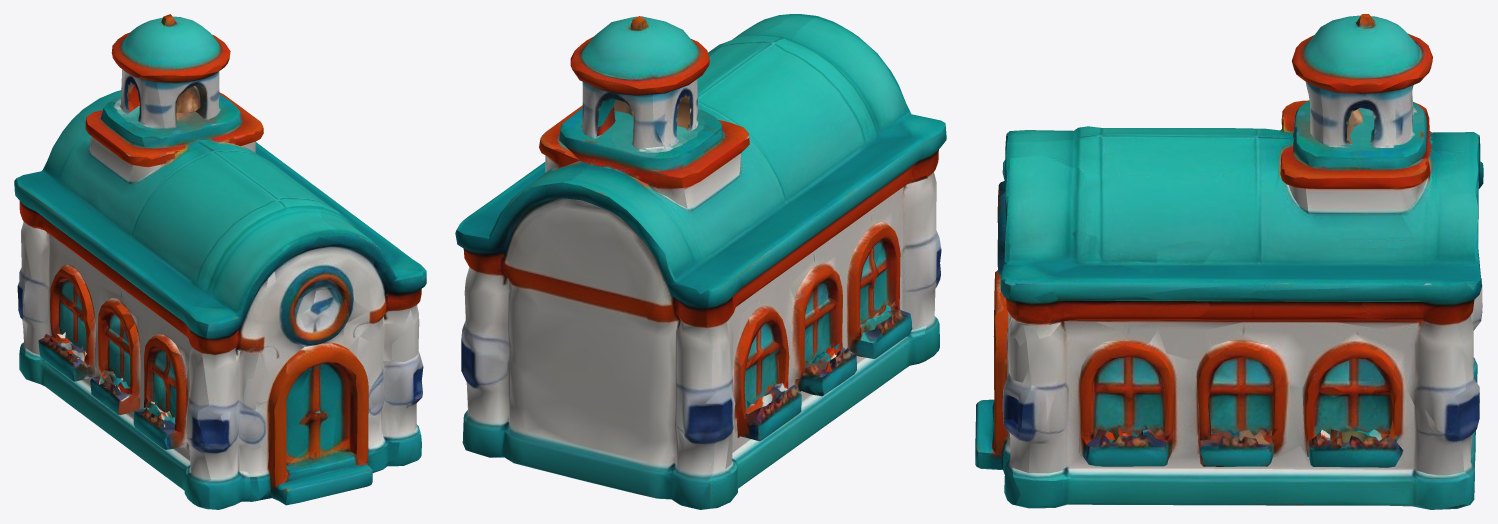
Rendered from school.glb.
3 views of the same model, side by side, from view 1: azimuth 30°, elevation 25°; view 2: azimuth 150°, elevation 25°; view 3: azimuth 270°, elevation 25° (orthographic). The views are drawn at different scales.
Parts seen in each view (by area): view 1: school; view 2: school; view 3: school.
Boxes of the visible parts, bbox=[...] form: school: bbox=[14, 14, 426, 509]; school: bbox=[455, 14, 946, 509]; school: bbox=[975, 14, 1483, 509].
Bounding box in the file's own units: 0.6396 × 0.9403 × 1.
Materials: 1 (1 with a texture image).
